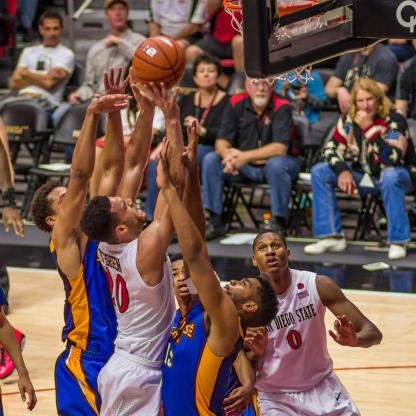Ball: (131, 36, 187, 92)
